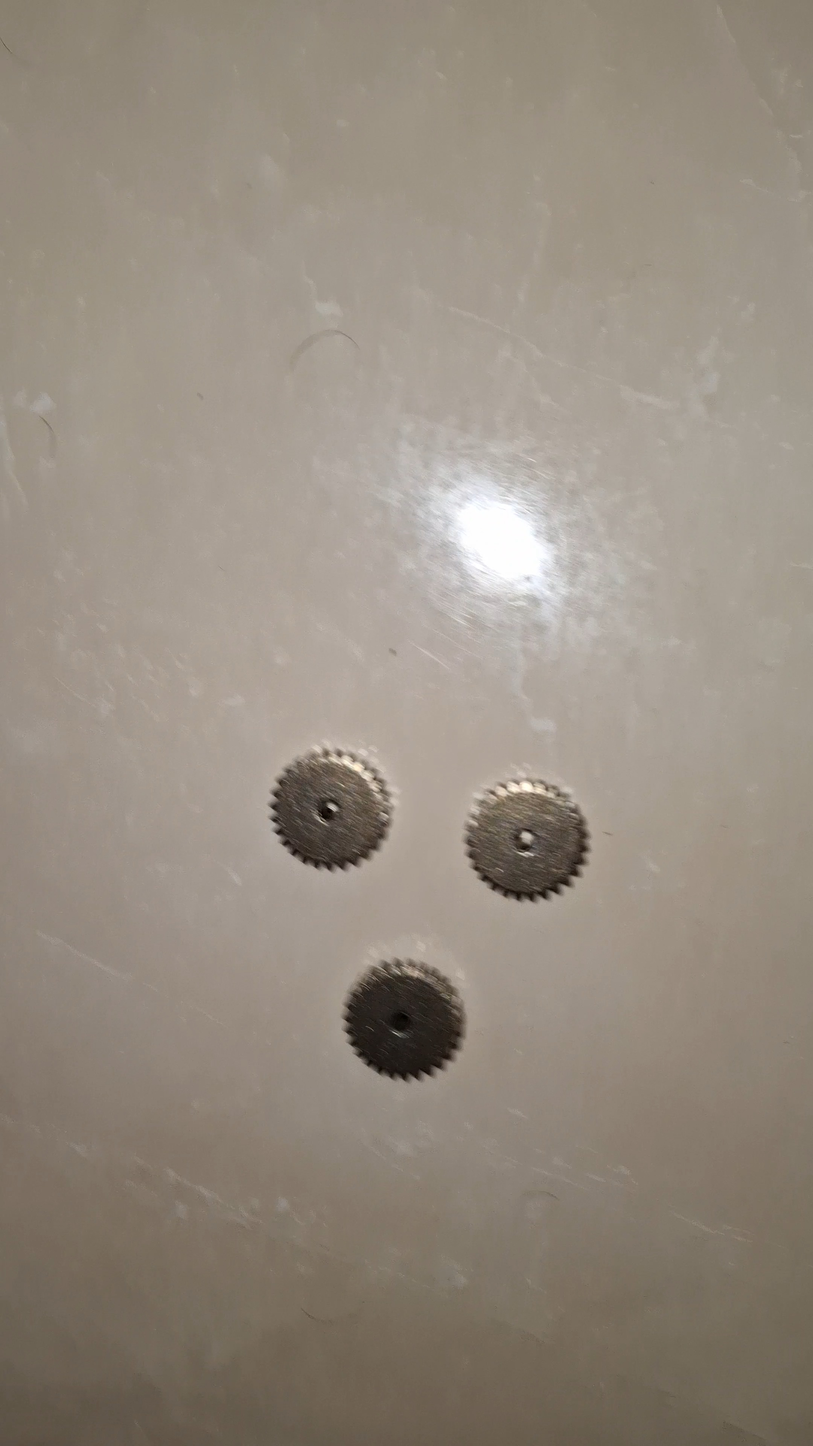spur gear: (466, 779, 588, 899), (271, 747, 391, 868), (344, 960, 464, 1079)
